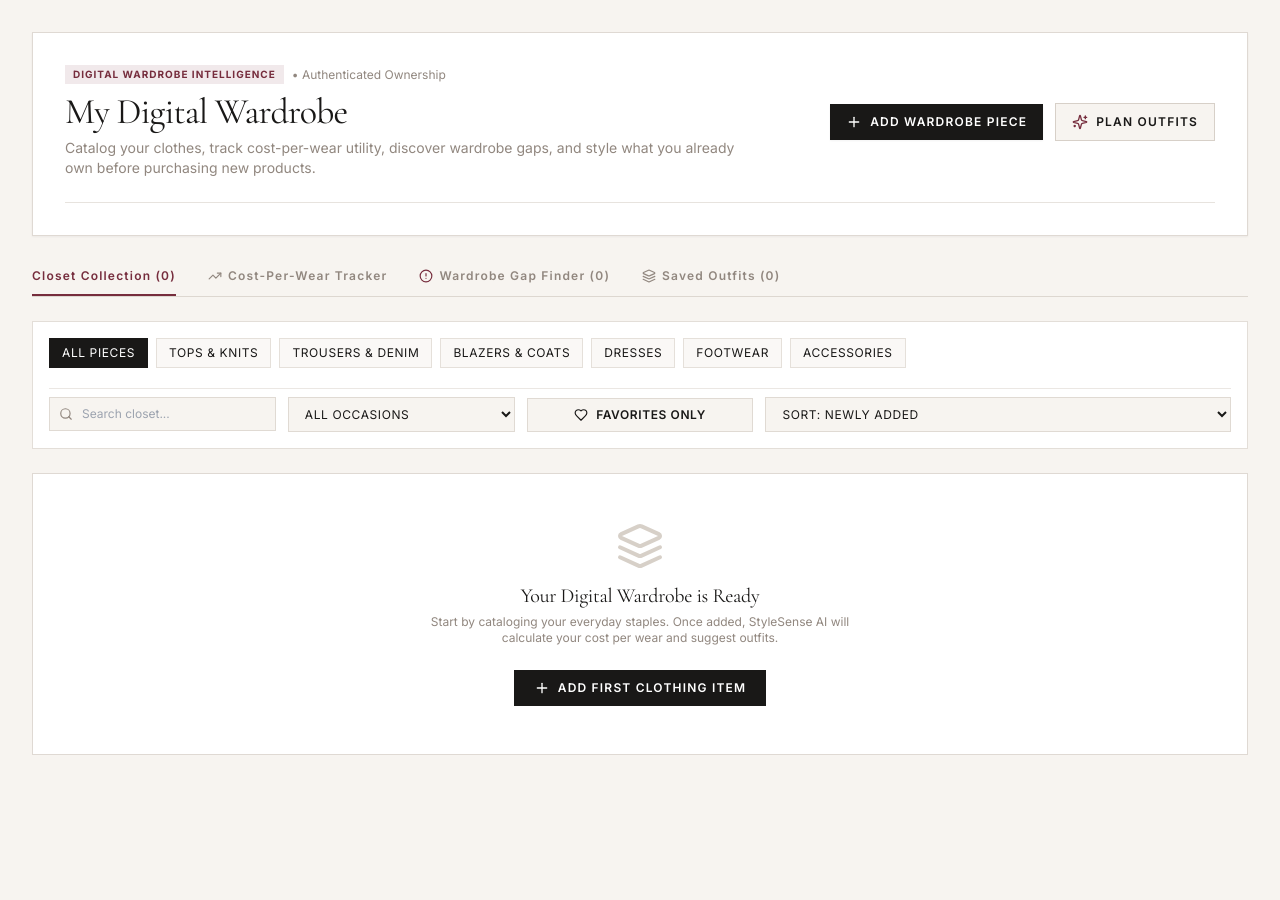
Test case: Part 7: Wardrobe Impact Insights & Cost-Per-Wear Analytics Frontend Tests › 1. Renders the Cost-Per-Wear Tracker tab and navigation badges
Expected: the heading "My Digital Wardrobe" is shown, [65,90,347,133]
Click the button "Cost-Per-Wear Tracker" at (298, 282), box [208,268,387,296]
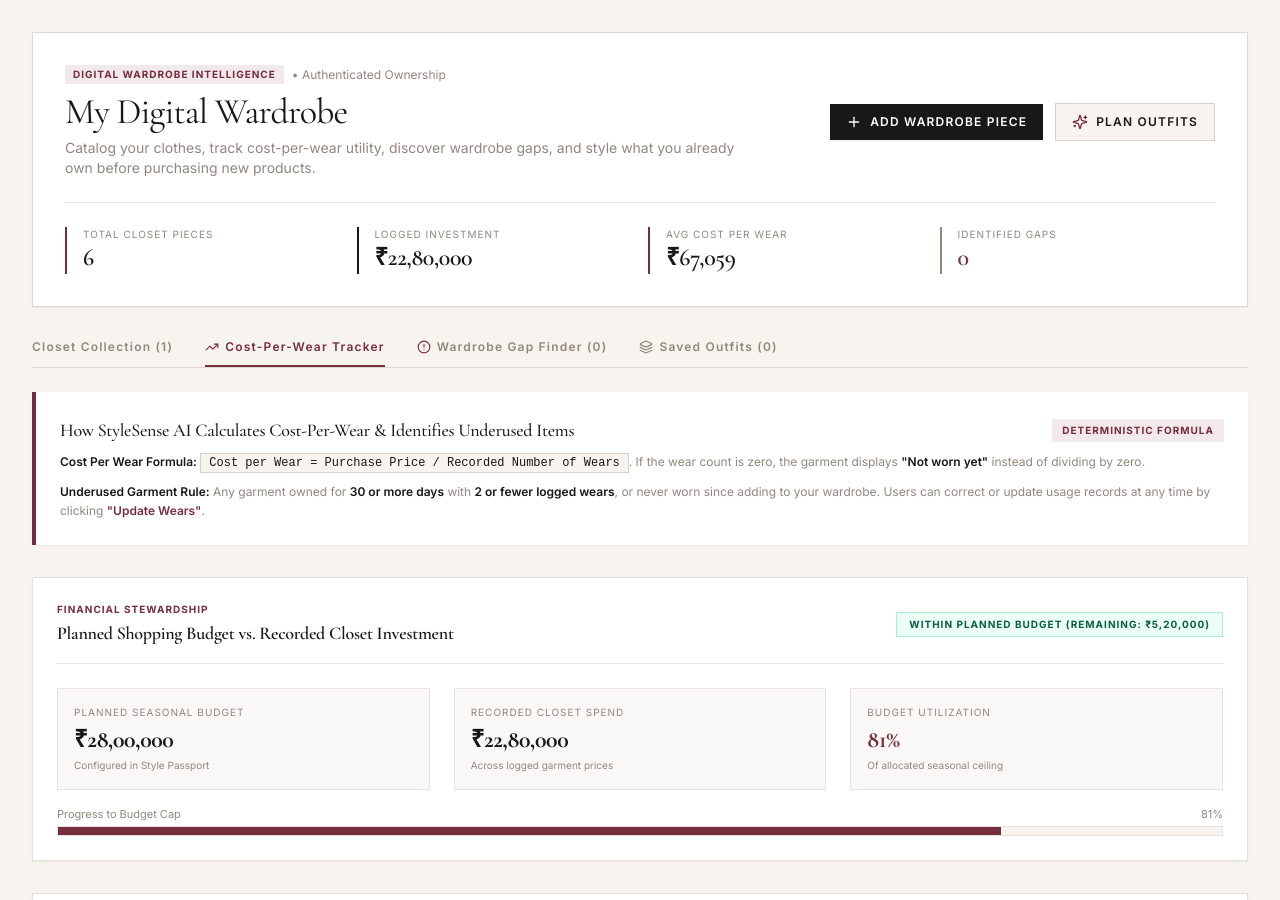
Now the heading "How StyleSense AI Calculates Cost-Per-Wear & Identifies Underused Items" is shown, box [60,416,574,444]
